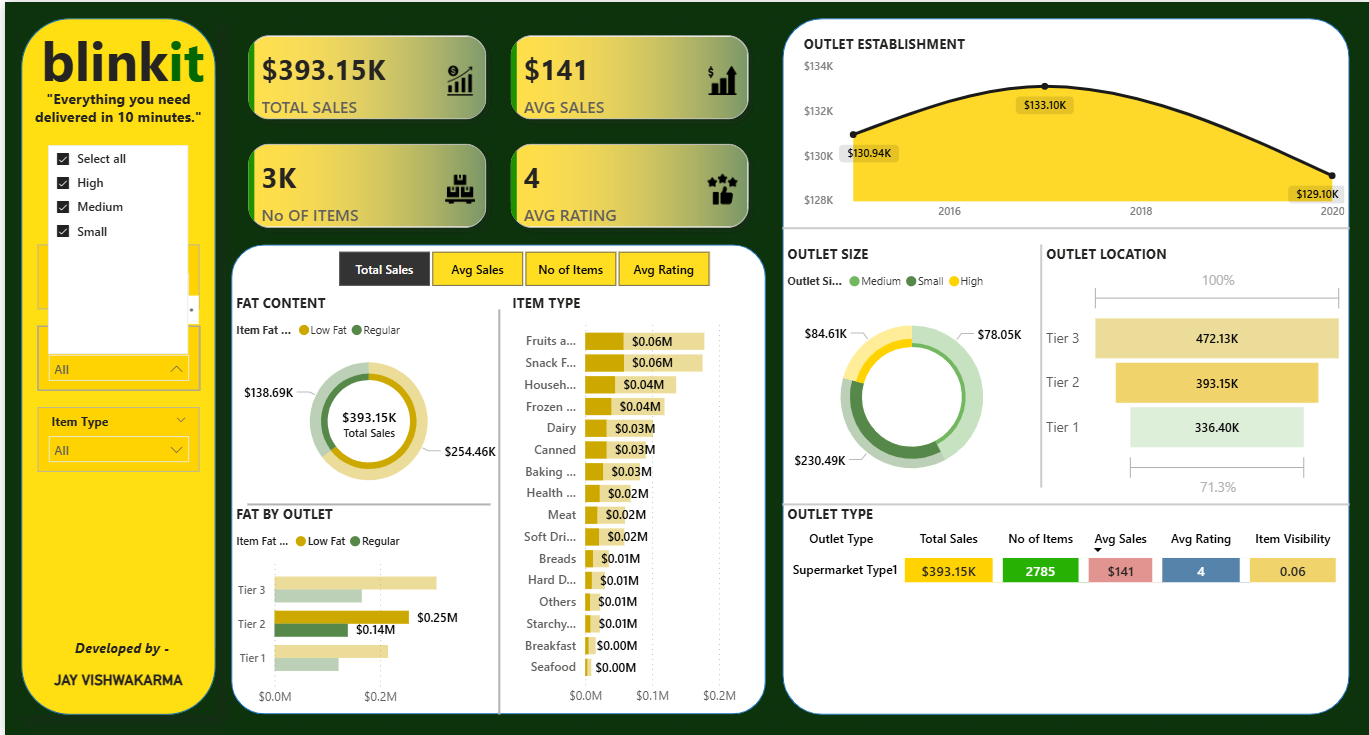

This screenshot's page, from the dashboard's own definition file:
{"tool":"powerbi","page":{"name":"Page 1","canvas":[1350,726],"ordinal":0},"visuals":[{"type":"shape","box":[16,16,192,688],"z":0},{"type":"textbox","box":[16,16,192,144],"z":1000},{"type":"textbox","box":[16,80,192,128],"z":2000},{"type":"cardVisual","fields":{"Data":["BlinkIT Grocery Data.Total Sales","BlinkIT Grocery Data.Avg Sales","BlinkIT Grocery Data.No of Items","BlinkIT Grocery Data.Avg Rating"]},"box":[224,16,528,224],"z":3000},{"type":"shape","box":[224,240,528,464],"z":4000},{"type":"donutChart","title":"FAT CONTENT","fields":{"Y":["BlinkIT Grocery Data.Total Sales"],"Category":["BlinkIT Grocery Data.Item Fat Content"]},"box":[224,288,272,208],"z":5000},{"type":"slicer","fields":{"Values":["Metrics.Metrics"]},"box":[304,240,416,48],"z":6000},{"type":"cardVisual","fields":{"Data":["BlinkIT Grocery Data.Total Sales"]},"box":[304,384,112,64],"z":7000},{"type":"clusteredBarChart","title":"FAT BY OUTLET","fields":{"Y":["BlinkIT Grocery Data.Total Sales"],"Category":["BlinkIT Grocery Data.Outlet Location Type"],"Series":["BlinkIT Grocery Data.Item Fat Content"]},"box":[224,496,272,208],"z":8000},{"type":"shape","box":[240,480,240,32],"z":9000},{"type":"shape","box":[464,304,48,400],"z":10000},{"type":"barChart","title":"ITEM TYPE","fields":{"Y":["BlinkIT Grocery Data.Total Sales"],"Category":["BlinkIT Grocery Data.Item Type"]},"box":[496,288,256,416],"z":11000},{"type":"shape","box":[768,16,560,688],"z":12000},{"type":"lineChart","title":"OUTLET ESTABLISHMENT","fields":{"Y":["BlinkIT Grocery Data.Total Sales"],"Category":["BlinkIT Grocery Data.Outlet Establishment Year"]},"box":[784,32,544,192],"z":13000},{"type":"donutChart","title":"OUTLET SIZE","fields":{"Y":["BlinkIT Grocery Data.Total Sales"],"Category":["BlinkIT Grocery Data.Outlet Size"]},"box":[768,240,256,256],"z":14000},{"type":"funnel","title":"OUTLET LOCATION","fields":{"Y":["Sum(BlinkIT Grocery Data.Sales)"],"Category":["BlinkIT Grocery Data.Outlet Location Type"]},"box":[1024,240,304,256],"z":15000},{"type":"pivotTable","title":"OUTLET TYPE","fields":{"Rows":["BlinkIT Grocery Data.Outlet Type"],"Values":["BlinkIT Grocery Data.Total Sales","BlinkIT Grocery Data.No of Items","BlinkIT Grocery Data.Avg Sales","BlinkIT Grocery Data.Avg Rating","Avg(BlinkIT Grocery Data.Item Visibility)"]},"box":[768,496,560,192],"z":16000},{"type":"shape","box":[768,208,560,32],"z":17000},{"type":"shape","box":[1008,240,32,240],"z":18000},{"type":"shape","box":[768,464,560,64],"z":19000},{"type":"slicer","fields":{"Values":["BlinkIT Grocery Data.Outlet Location Type"]},"box":[32,240,160,64],"z":20000},{"type":"slicer","fields":{"Values":["BlinkIT Grocery Data.Outlet Size"]},"box":[32,320,160,64],"z":21000},{"type":"slicer","fields":{"Values":["BlinkIT Grocery Data.Item Type"]},"box":[32,400,160,64],"z":22000},{"type":"textbox","box":[32,192,160,32],"z":23000},{"type":"textbox","box":[64,624,112,32],"z":24000},{"type":"textbox","box":[16,656,192,32],"z":25000}]}

Visuals, with their boxes in screenshot pixels (x1, y1, x2, y2), scaled from the page's 1350x726 canvas onto the 1369x735 screenshot:
shape: <box>16,16,211,713</box>
textbox: <box>16,16,211,162</box>
textbox: <box>16,81,211,211</box>
cardVisual - BlinkIT Grocery Data.Total Sales x BlinkIT Grocery Data.Avg Sales: <box>227,16,763,243</box>
shape: <box>227,243,763,713</box>
"FAT CONTENT" donutChart: <box>227,292,503,502</box>
slicer - Metrics.Metrics: <box>308,243,730,292</box>
cardVisual - BlinkIT Grocery Data.Total Sales: <box>308,389,422,454</box>
"FAT BY OUTLET" clusteredBarChart: <box>227,502,503,713</box>
shape: <box>243,486,487,518</box>
shape: <box>471,308,519,713</box>
"ITEM TYPE" barChart: <box>503,292,763,713</box>
shape: <box>779,16,1347,713</box>
"OUTLET ESTABLISHMENT" lineChart: <box>795,32,1347,227</box>
"OUTLET SIZE" donutChart: <box>779,243,1038,502</box>
"OUTLET LOCATION" funnel: <box>1038,243,1347,502</box>
"OUTLET TYPE" pivotTable: <box>779,502,1347,697</box>
shape: <box>779,211,1347,243</box>
shape: <box>1022,243,1055,486</box>
shape: <box>779,470,1347,535</box>
slicer - BlinkIT Grocery Data.Outlet Location Type: <box>32,243,195,308</box>
slicer - BlinkIT Grocery Data.Outlet Size: <box>32,324,195,389</box>
slicer - BlinkIT Grocery Data.Item Type: <box>32,405,195,470</box>
textbox: <box>32,194,195,227</box>
textbox: <box>65,632,178,664</box>
textbox: <box>16,664,211,697</box>
